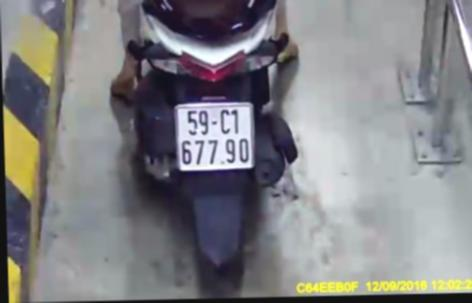License_Plate: (168, 97, 261, 177)
